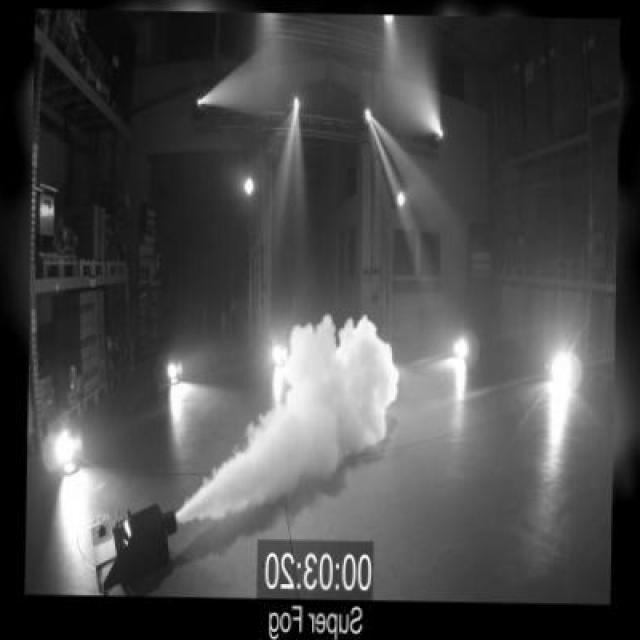fire: (184, 310, 405, 526)
